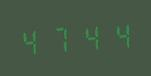four: (18, 24, 45, 58), (74, 20, 101, 54), (102, 18, 129, 52)
seven: (46, 22, 73, 56)
